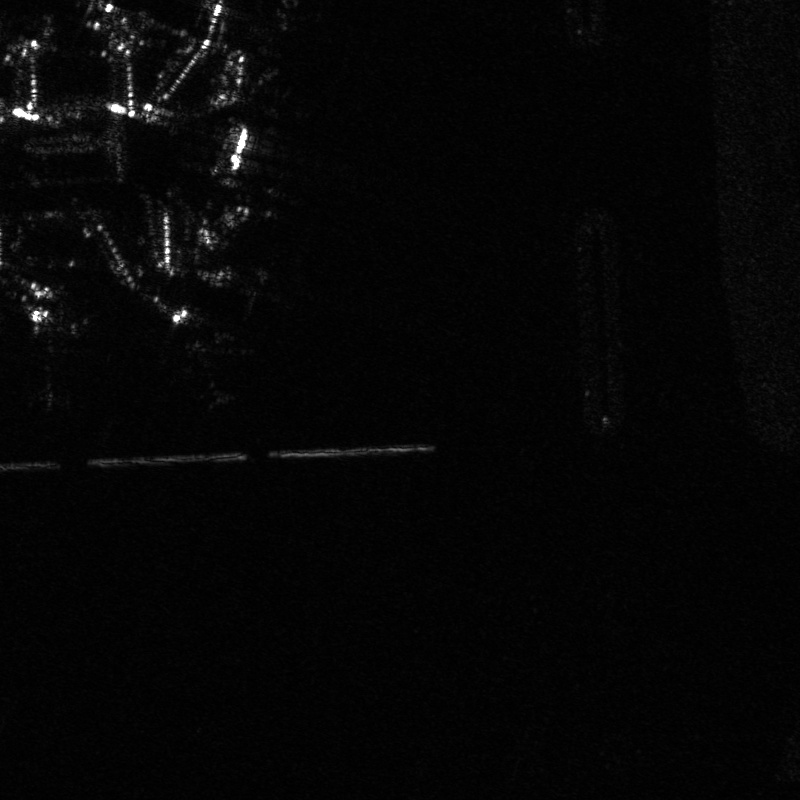Boeing737: (152, 302, 266, 412)
